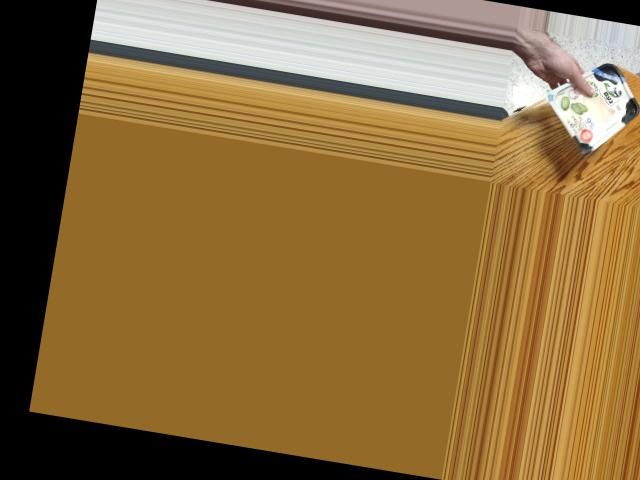cheese: (566, 63, 633, 151)
